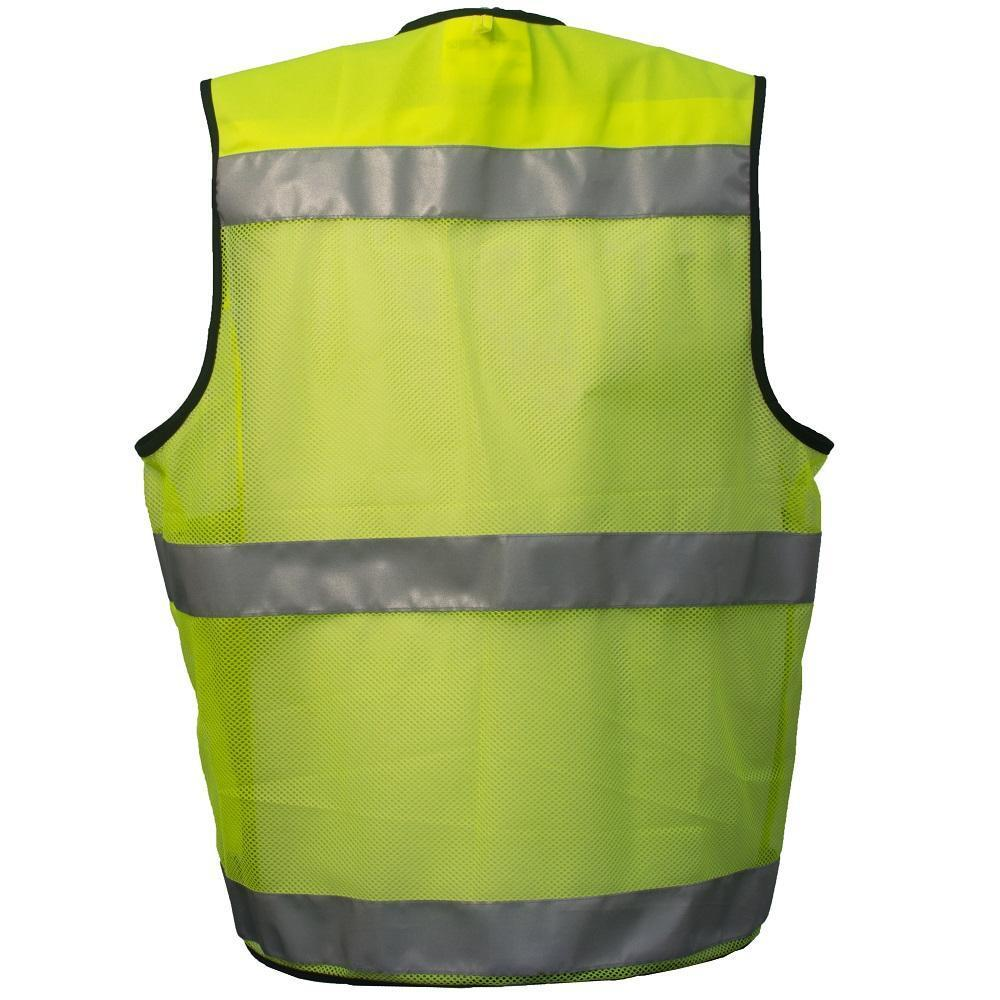vest: (136, 3, 835, 988)
